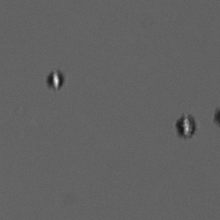Living Cell: (175, 111, 199, 140), (46, 69, 67, 90)
